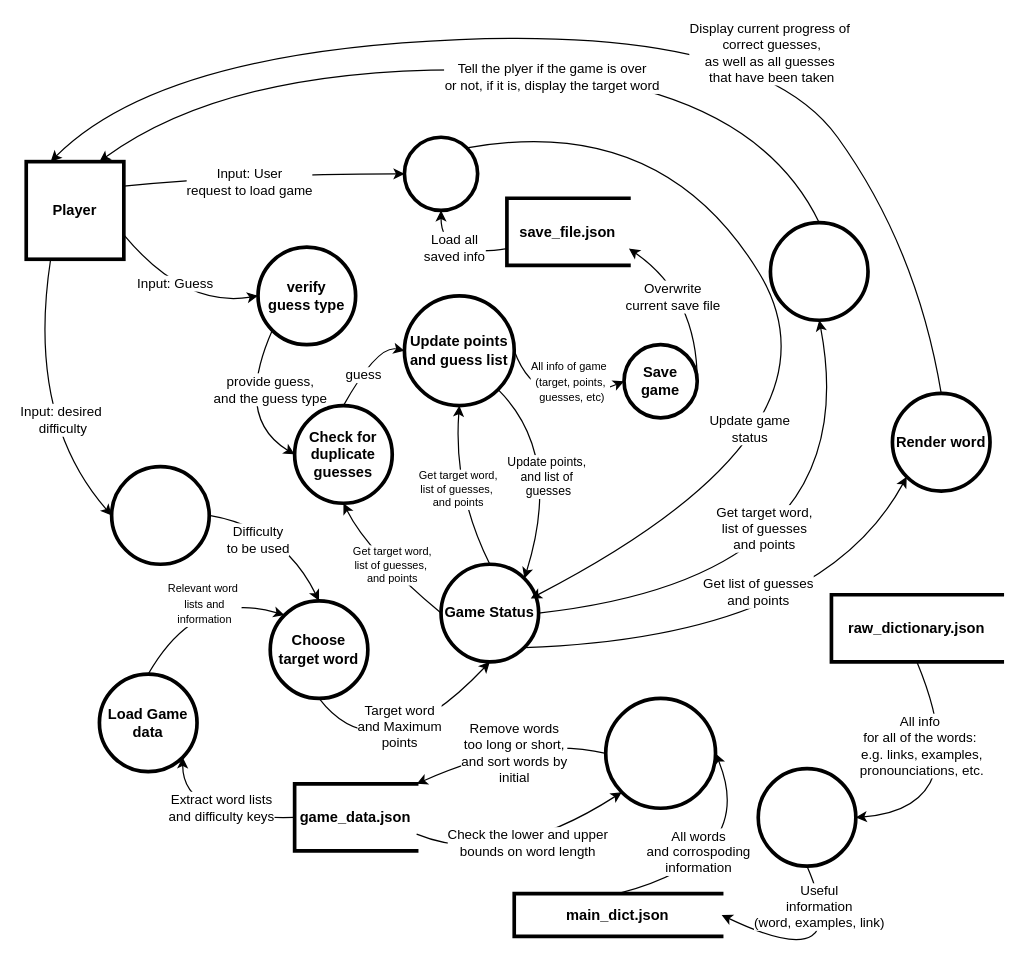
Image size: 1026x961. Some labels were removed from this diagram. The box of each missing label's shape, as (x1, y1, x2, y2) in pixels:
Check for end: (768, 220, 869, 321)
Choose Difficulty: (109, 464, 210, 565)
Condense Dictionary: (756, 766, 857, 867)
Filter and Transfer data: (603, 696, 717, 809)
load game: (402, 135, 479, 212)
